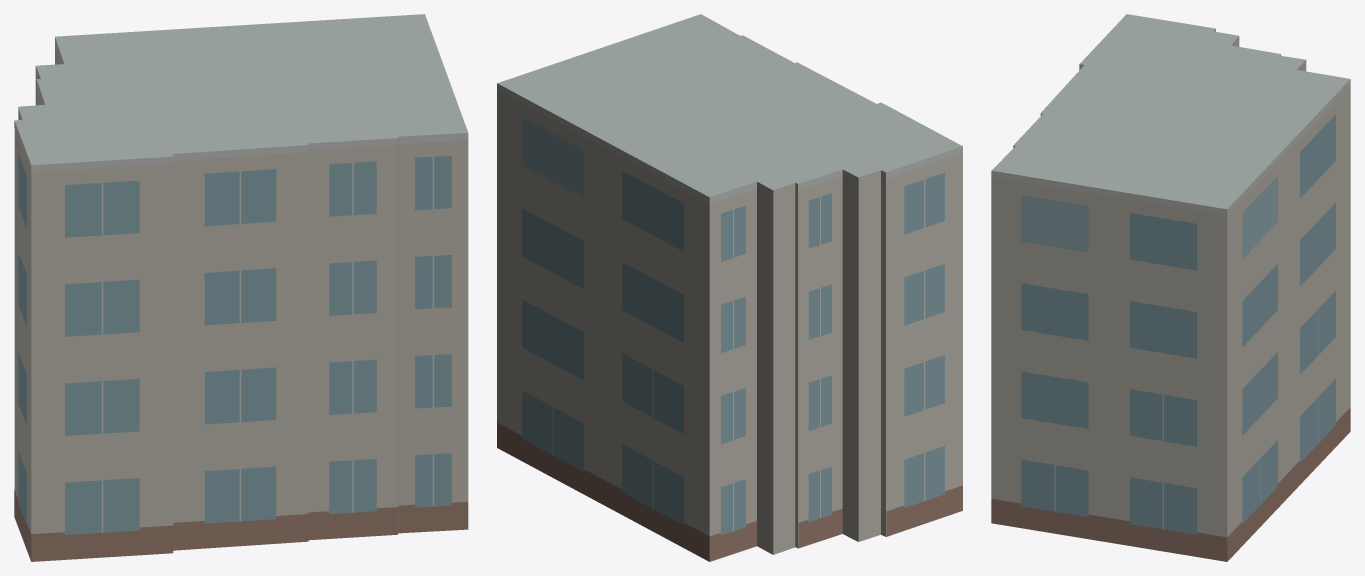
Rendered from survey-upis-32604360.glb.
The picture shows the model from 3 angles, left to right: view 1: azimuth 30°, elevation 25°; view 2: azimuth 150°, elevation 25°; view 3: azimuth 270°, elevation 25°; orthographic projection. The views are drawn at different scales.
Visible parts, largest first — view 1: survey-upis-32604360.tmp; view 2: survey-upis-32604360.tmp; view 3: survey-upis-32604360.tmp.
Boxes of the visible parts, box(x1,y1,x2,y2) form: survey-upis-32604360.tmp: box(14, 14, 468, 561); survey-upis-32604360.tmp: box(497, 14, 962, 561); survey-upis-32604360.tmp: box(991, 14, 1350, 561).
Size of the model in its own units: 15.96 by 13.43 by 12.41.
